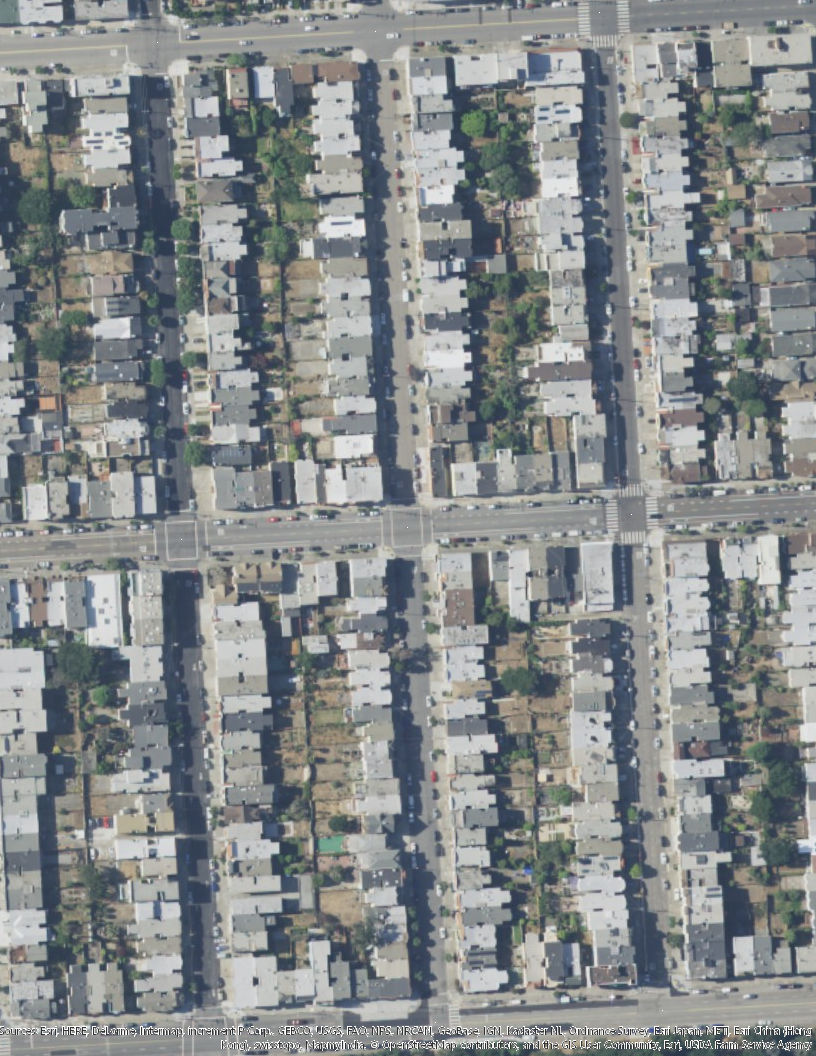zebracross: (615, 1, 632, 33), (576, 1, 592, 34), (603, 499, 620, 530), (591, 33, 620, 48), (647, 496, 660, 529), (622, 530, 648, 545), (620, 484, 645, 497), (449, 1003, 459, 1028)
